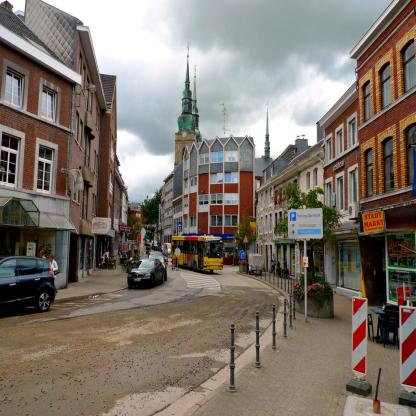Car: (2, 251, 56, 316), (128, 259, 166, 287), (147, 253, 164, 268), (164, 241, 171, 256)
